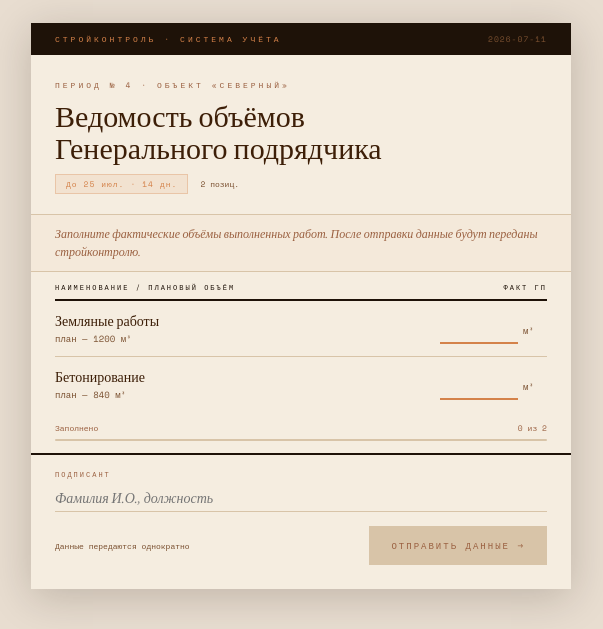
Test: GpFormPage › кнопка активна когда все поля и имя заполнены
The width and height of the screenshot is (603, 629).
Type "1150" into the number field with test id "gp-volume-input" in the row of "Земляные работы" at {"x": 479, "y": 328}, box [440,314,518,344]
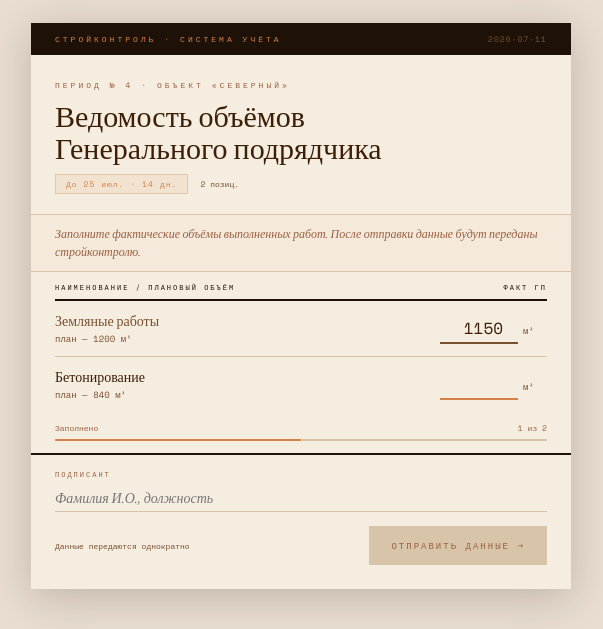
Type "800" into the number field with test id "gp-volume-input" in the row of "Бетонирование" at {"x": 479, "y": 384}, box [440,370,518,400]
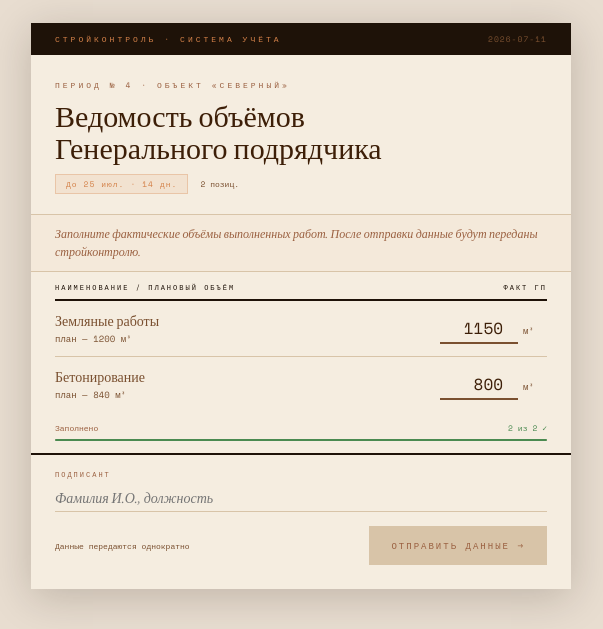
Type "Иванов И.И." into the field with test id "gp-name-input" at {"x": 301, "y": 498}, box [55,485,547,512]
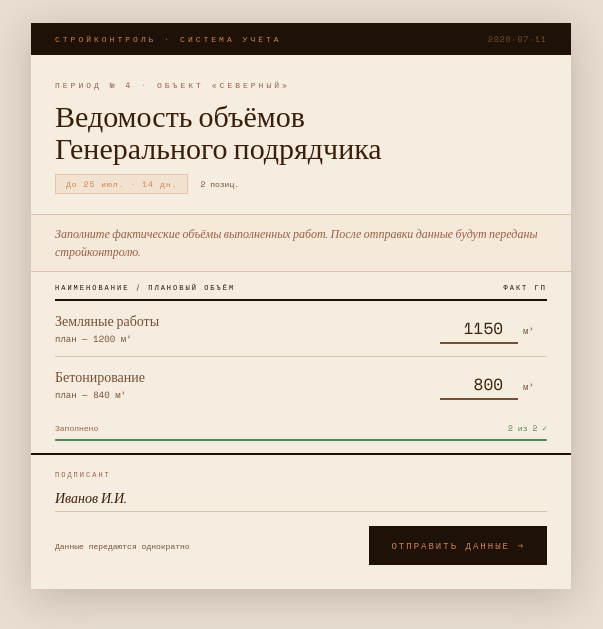
Now the button with test id "gp-submit-btn" is enabled, box [370,526,547,565]
